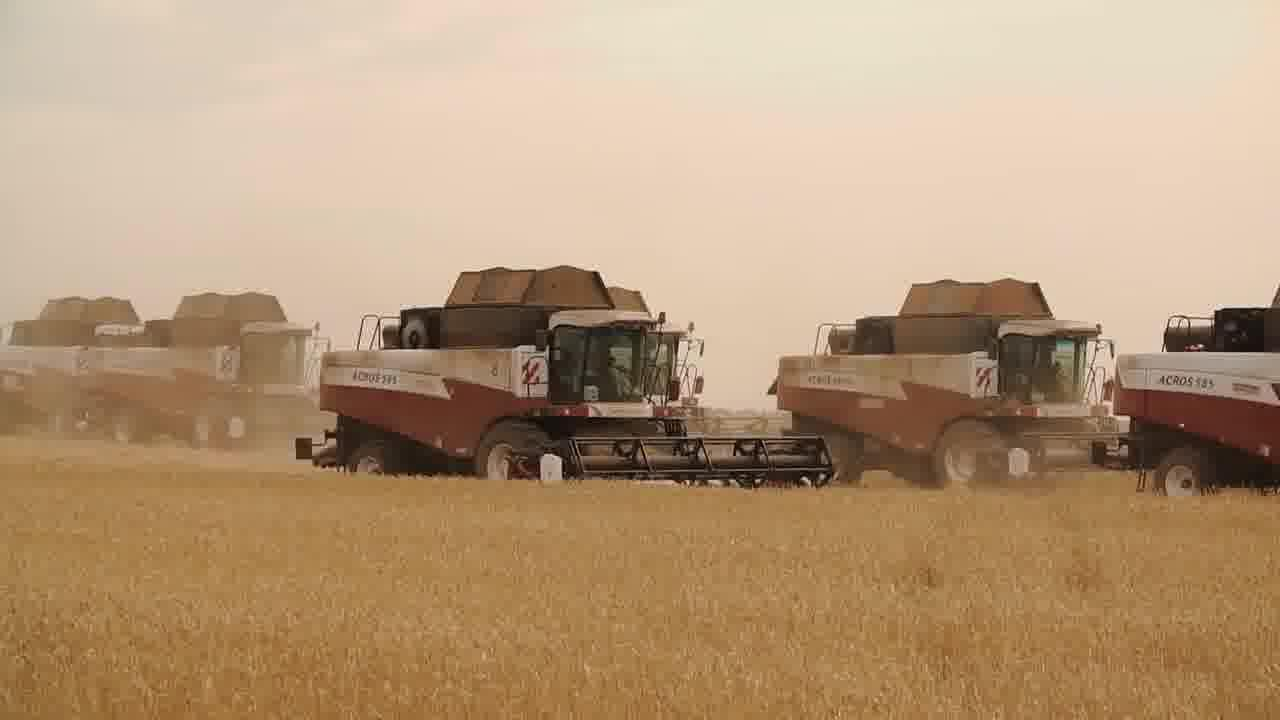combine harvester: (297, 260, 842, 498), (766, 264, 1120, 498), (1096, 267, 1280, 505), (81, 286, 330, 454), (1, 289, 142, 457)
